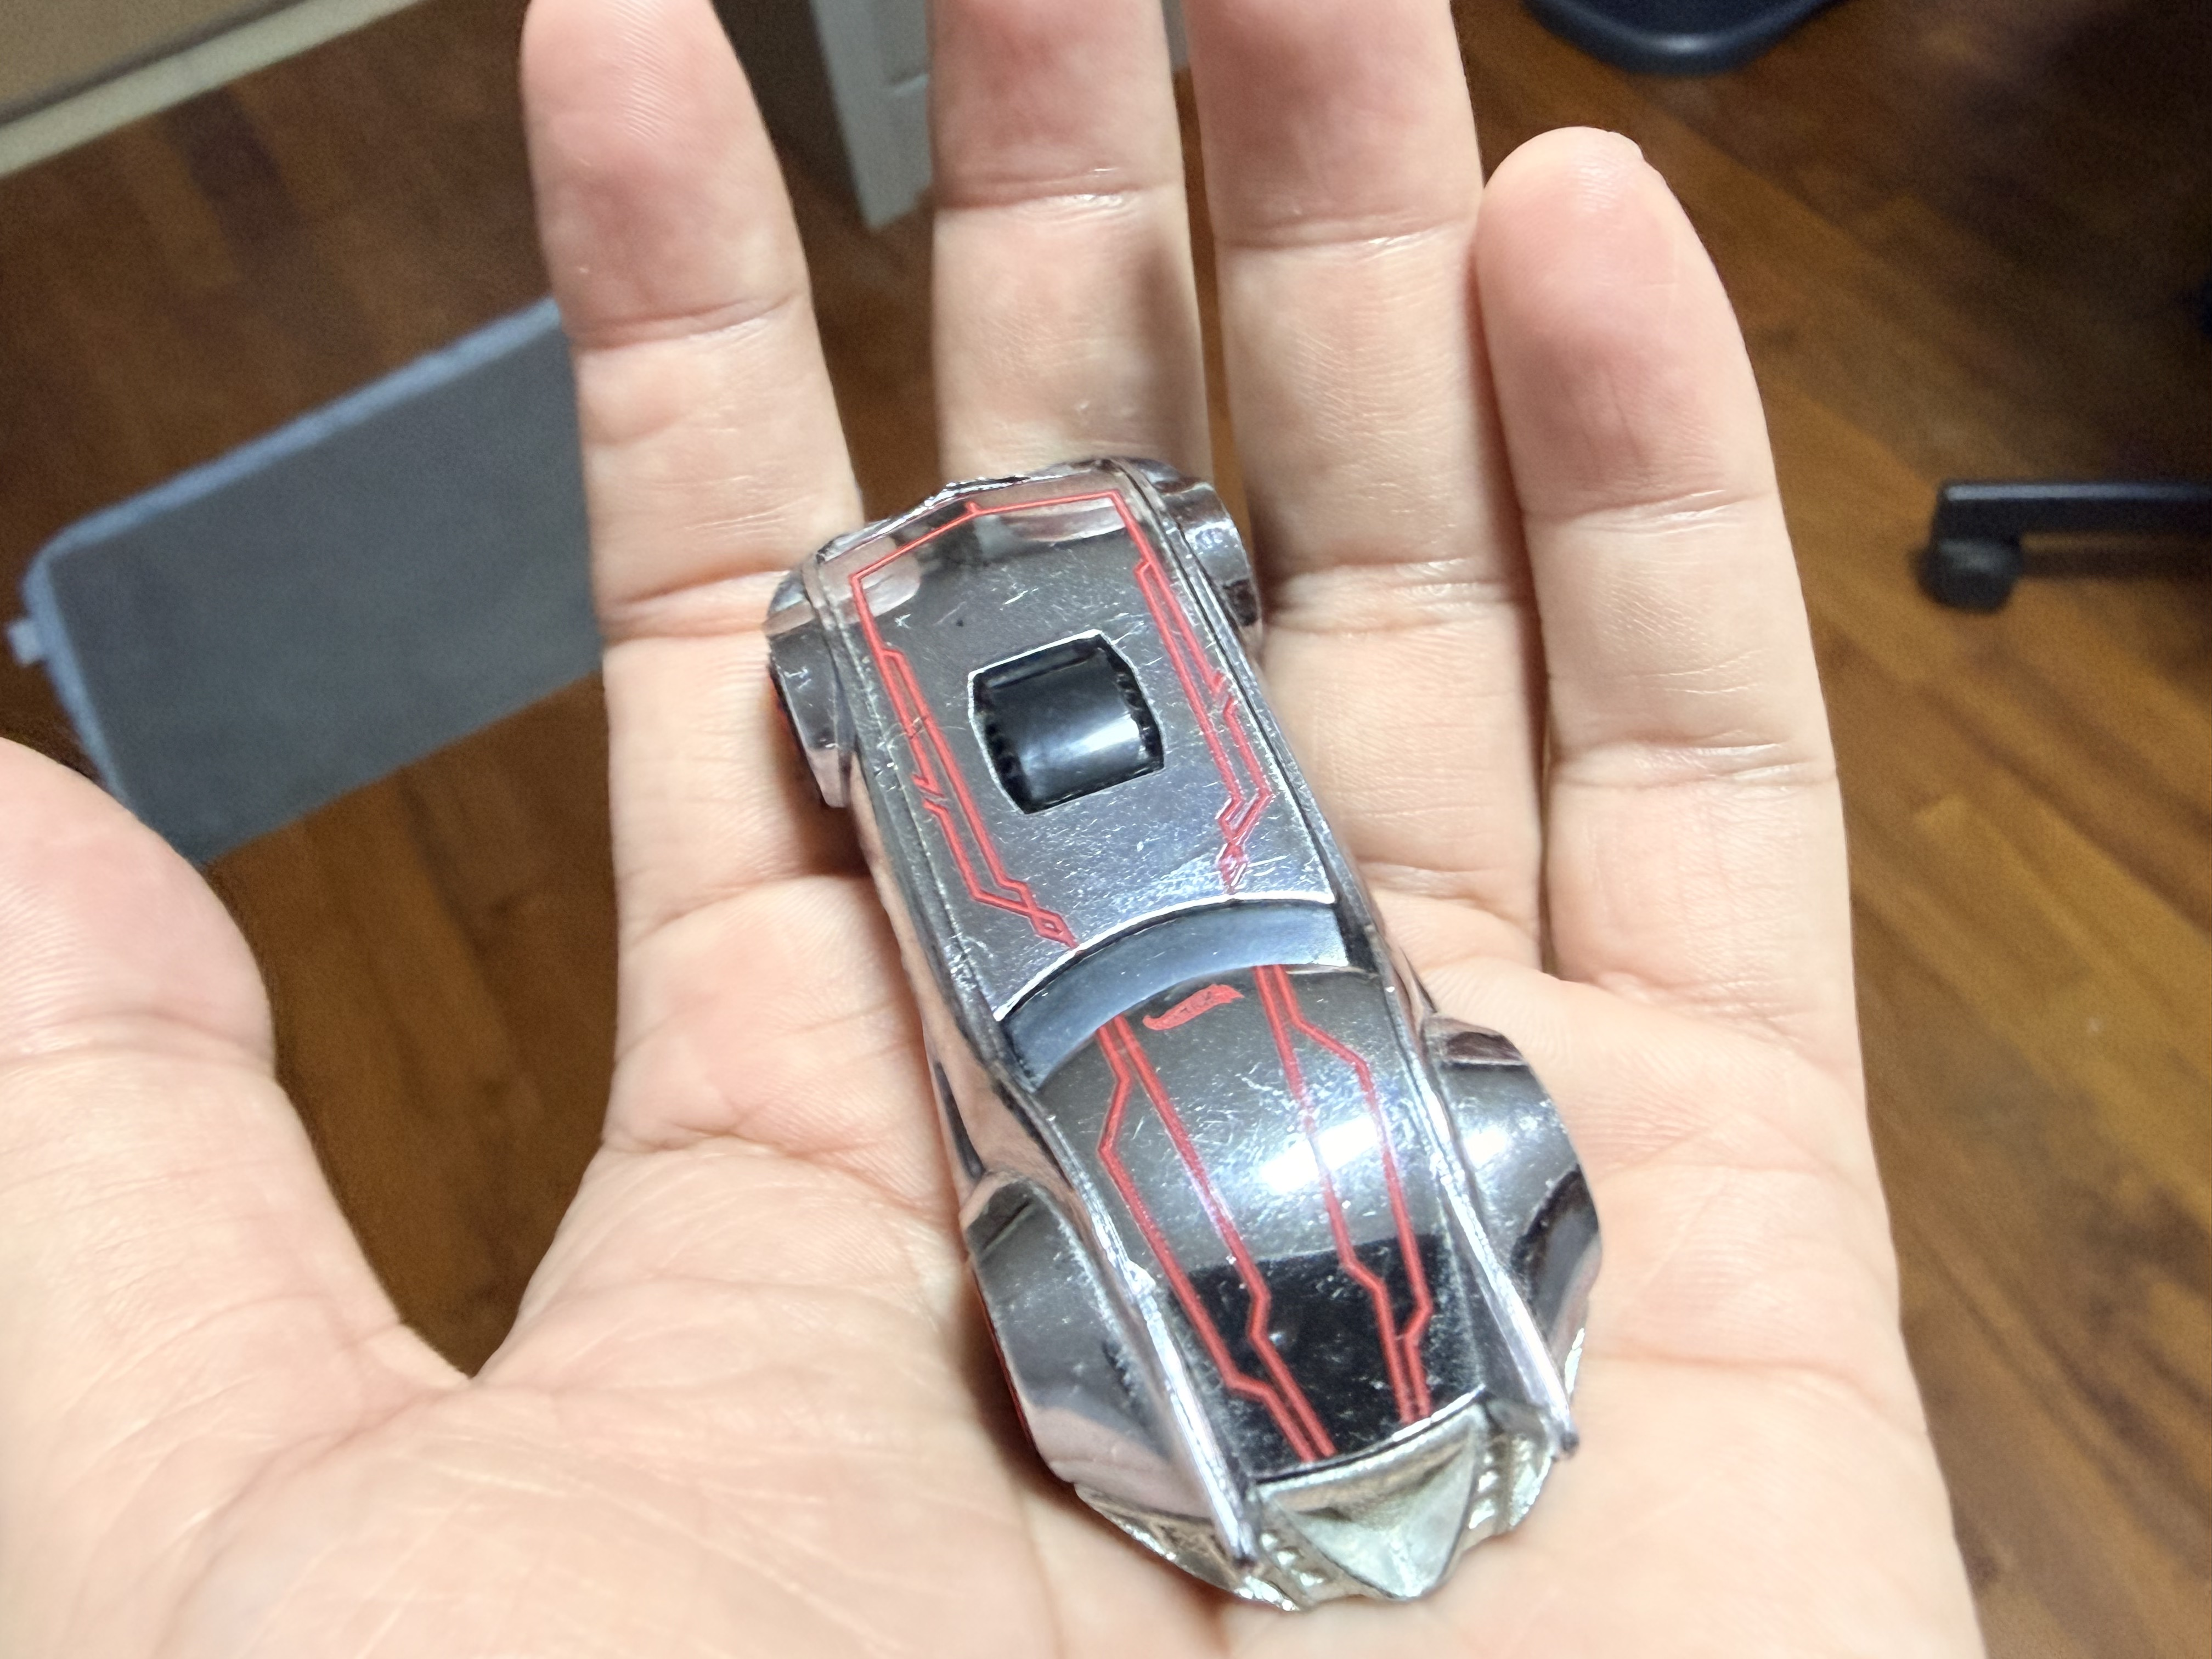dc_comics: (763, 453, 1608, 1614)
